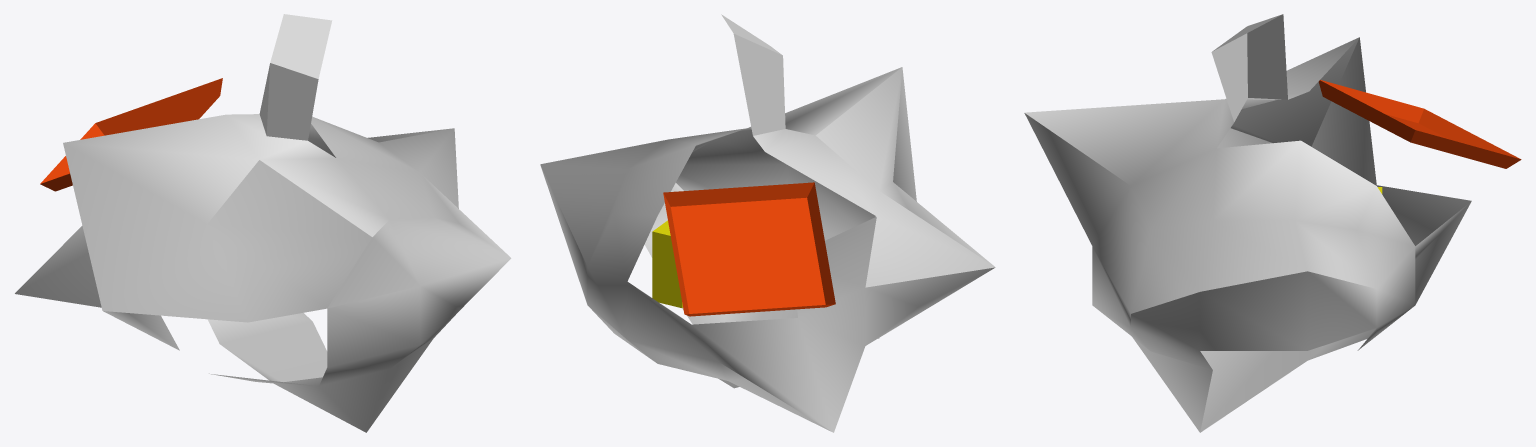
File: K_GOMI06.glb
3 renders of one model, left to right at view 1: azimuth 30°, elevation 25°; view 2: azimuth 150°, elevation 25°; view 3: azimuth 270°, elevation 25°, orthographic.
Parts seen in each view (by area): view 1: FRAME_ROOT; view 2: FRAME_ROOT; view 3: FRAME_ROOT.
Part boxes in pixels (x1,y1,x2,y2): FRAME_ROOT: (15, 14, 511, 432); FRAME_ROOT: (540, 14, 995, 432); FRAME_ROOT: (1024, 14, 1521, 432).
Size of the model in its own units: 1.51 by 1.42 by 1.61.
1 material, 1 textured.
